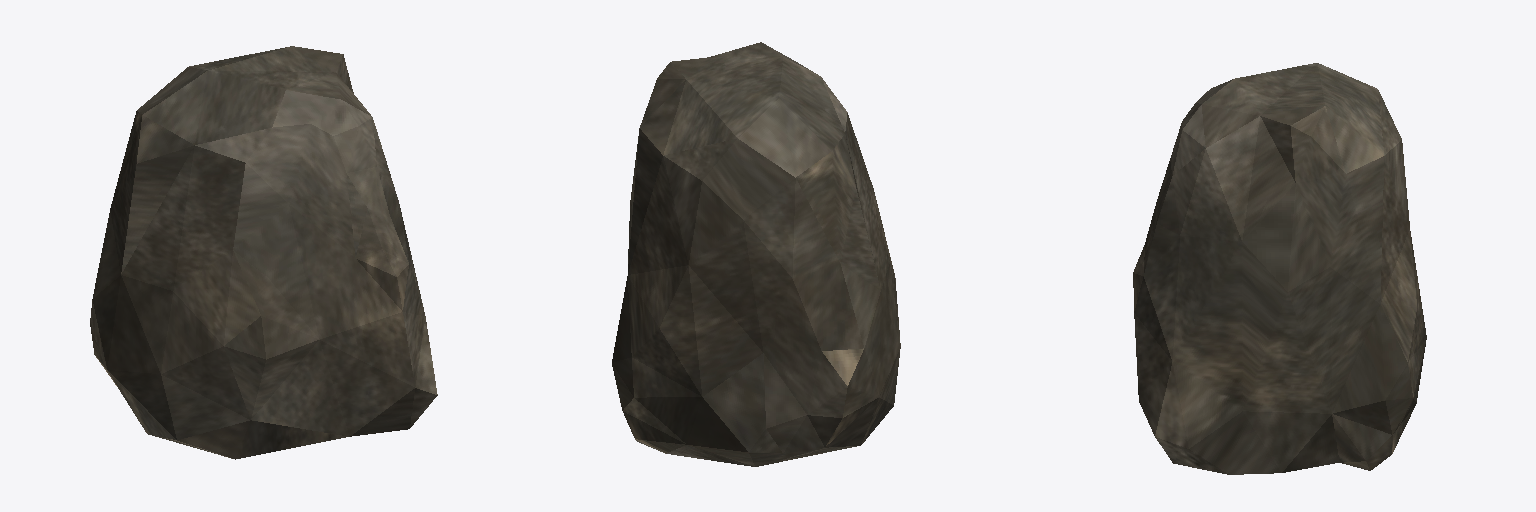
3 renders of one model, left to right at view 1: azimuth 30°, elevation 25°; view 2: azimuth 150°, elevation 25°; view 3: azimuth 270°, elevation 25°, orthographic.
Visible parts, largest first — view 1: RockSet05C; view 2: RockSet05C; view 3: RockSet05C.
Boxes of the visible parts, x1=… form: RockSet05C: x1=90, y1=46, x2=437, y2=459; RockSet05C: x1=612, y1=42, x2=900, y2=466; RockSet05C: x1=1133, y1=63, x2=1426, y2=474.
Size of the model in its own units: 10.91 by 14.51 by 10.68.
Materials: 1 (1 with a texture image).